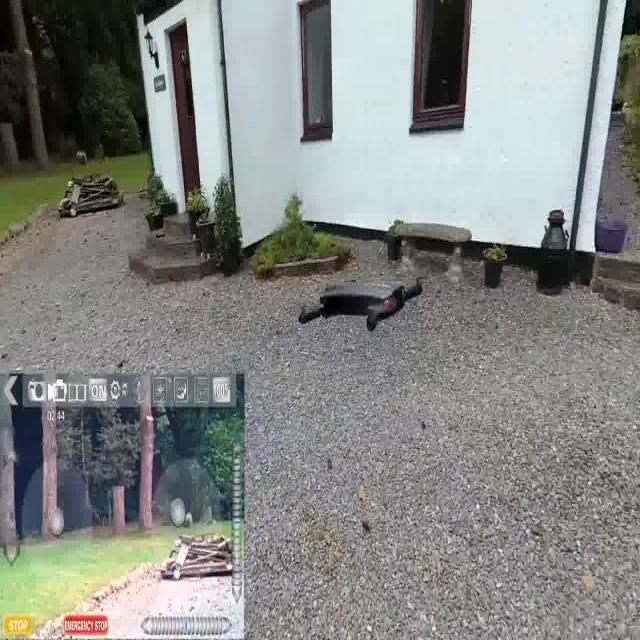drone: (298, 278, 426, 332)
